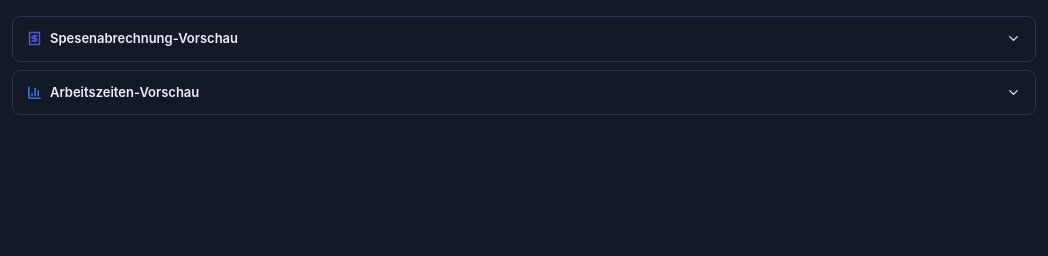
MonthPreviews › klappt die Spesenabrechnung-Vorschau beim Klick auf
Step 1. Click the button "Spesenabrechnung-Vorschau" → (144, 38), box x1=12 y1=16 x2=1036 y2=62
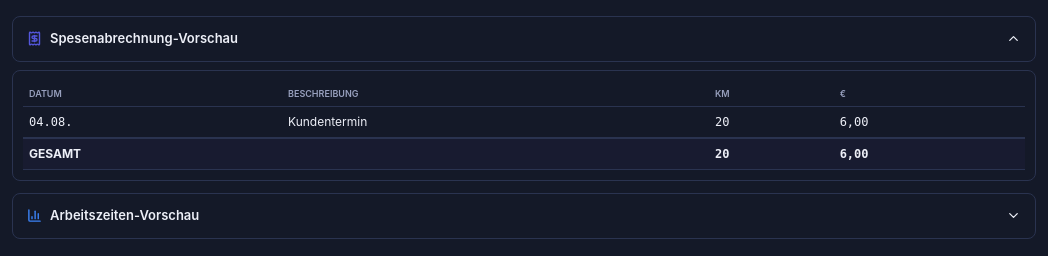
Result: the text "Kundentermin" is shown at x1=282 y1=106 x2=709 y2=138
